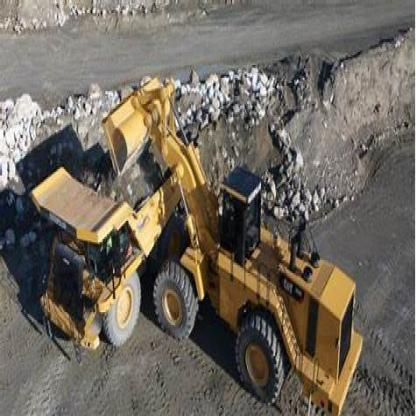bull_dozer/loader/grader: (102, 72, 364, 413)
